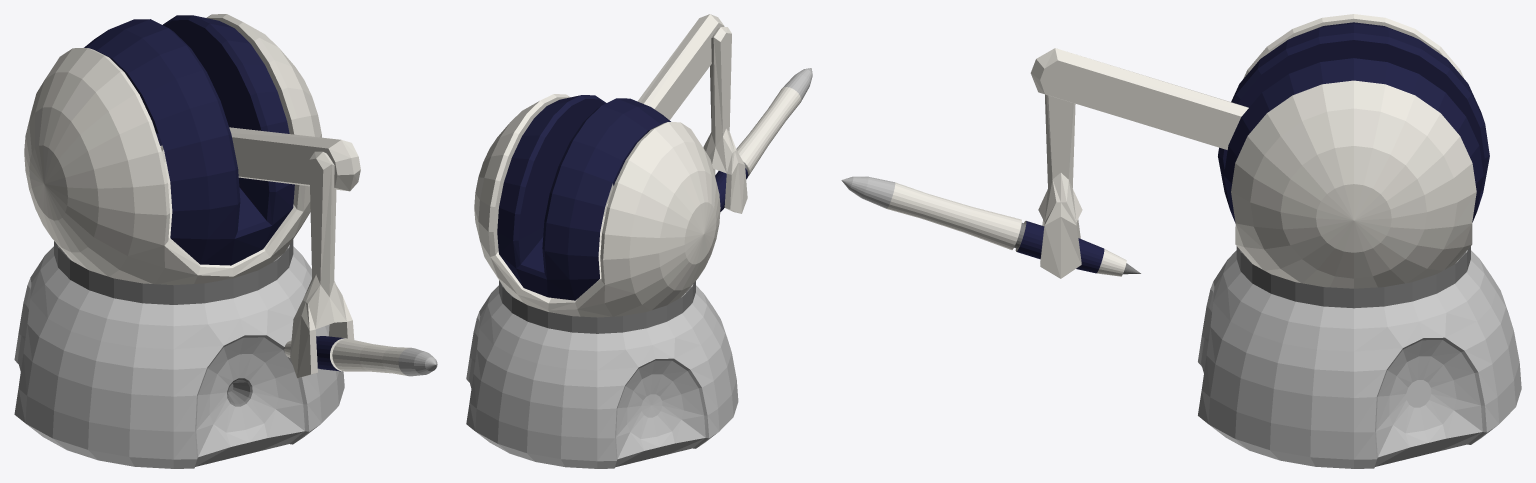
File: omni.obj
3 views of the same model, side by side, from view 1: azimuth 30°, elevation 25°; view 2: azimuth 150°, elevation 25°; view 3: azimuth 270°, elevation 25° (orthographic). The views are drawn at different scales.
Visible parts, largest first — view 1: omni.obj; view 2: omni.obj; view 3: omni.obj.
Part boxes in pixels (x1=…): omni.obj: x1=14, y1=14, x2=437, y2=468; omni.obj: x1=466, y1=14, x2=812, y2=468; omni.obj: x1=841, y1=14, x2=1521, y2=468.
Bounding box in the file's own units: 3.43 × 4.19 × 6.96.
